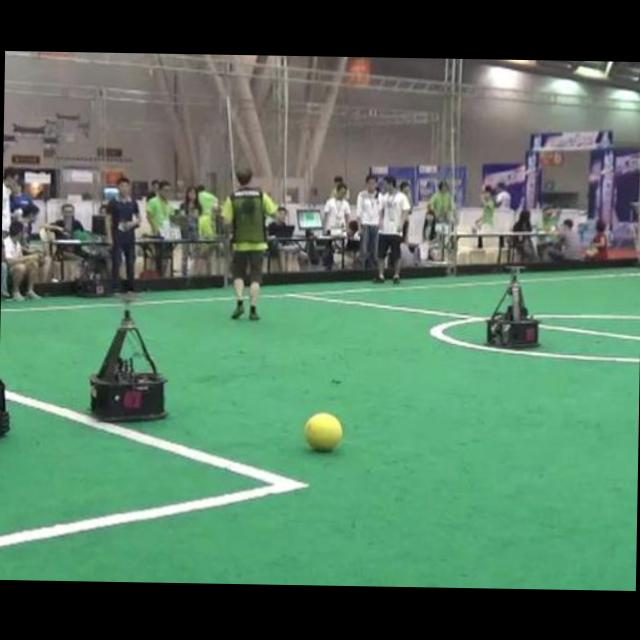ball: (304, 412, 341, 450)
robot: (90, 308, 164, 420), (486, 279, 537, 345)
